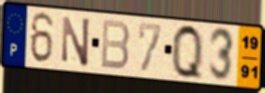3: (207, 25, 235, 86)
6: (29, 11, 56, 66)
7: (137, 21, 163, 74)
B: (99, 18, 132, 72)
N: (61, 14, 92, 69)
Q: (170, 22, 205, 83)
